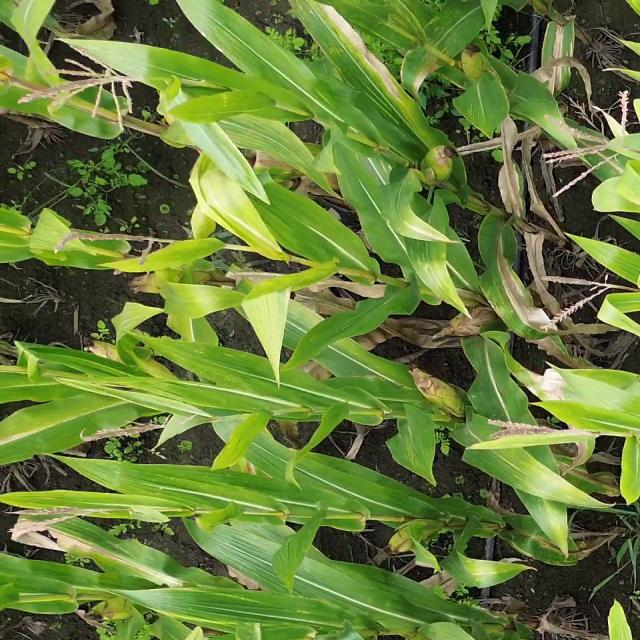gray-leaf-spot: (406, 238, 523, 348)
southern-leaf-blight: (293, 12, 483, 121), (153, 336, 280, 410), (141, 477, 253, 534)
